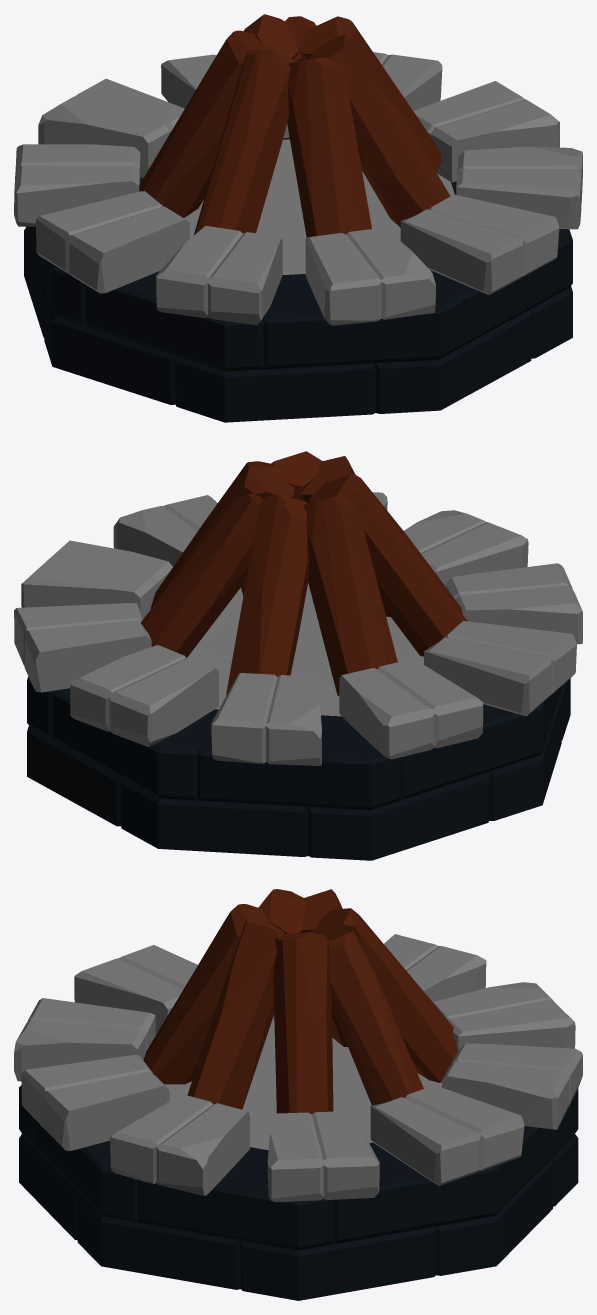
The model's file is CampFire.fbx.
3 renders of one model, top to bottom at view 1: azimuth 30°, elevation 25°; view 2: azimuth 150°, elevation 25°; view 3: azimuth 270°, elevation 25°, orthographic.
Parts seen in each view (by area): view 1: CampFire; view 2: CampFire; view 3: CampFire.
Boxes of the visible parts, box(x1,y1,x2,y2) form: CampFire: box(14, 14, 582, 422); CampFire: box(14, 451, 582, 860); CampFire: box(14, 889, 582, 1300).
Bounding box in the file's own units: 51.99 × 27.62 × 52.51.
